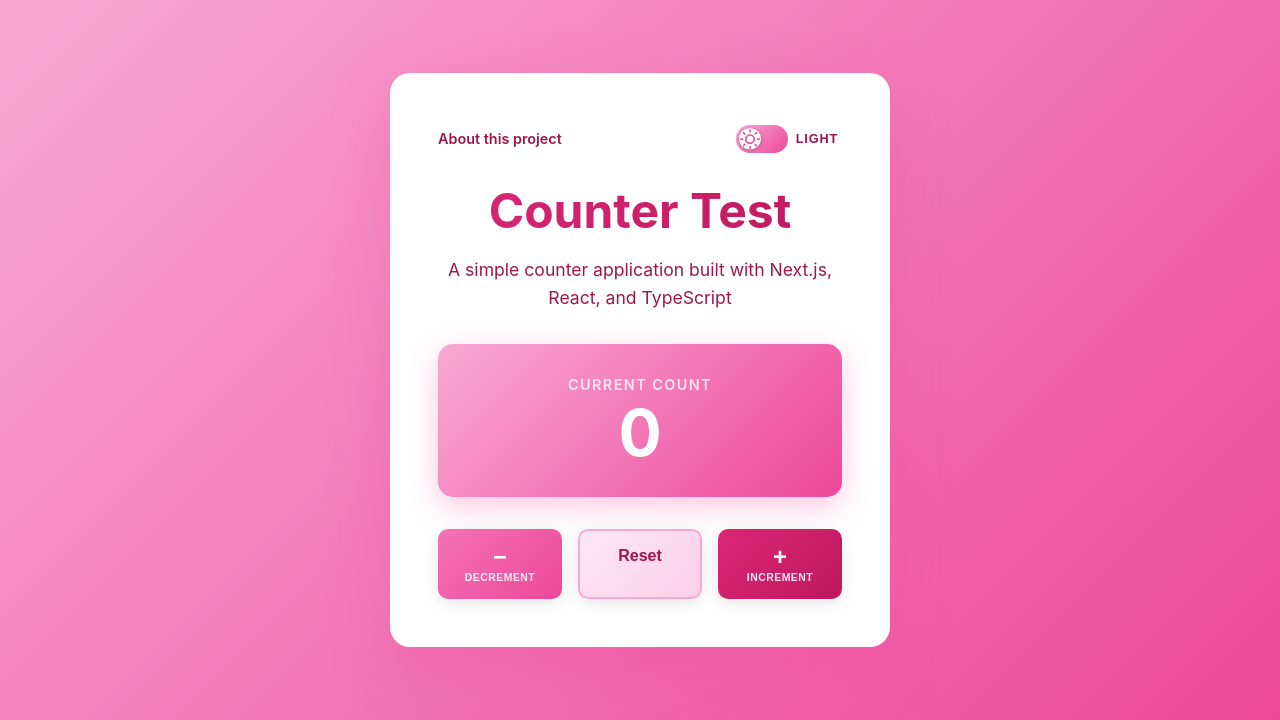
Test case: Home page counter – decrement › decrements from 0 to -1 on the first click
The image size is (1280, 720).
Click the button with aria-label "decrement counter": (500, 564) [438,529,562,599]
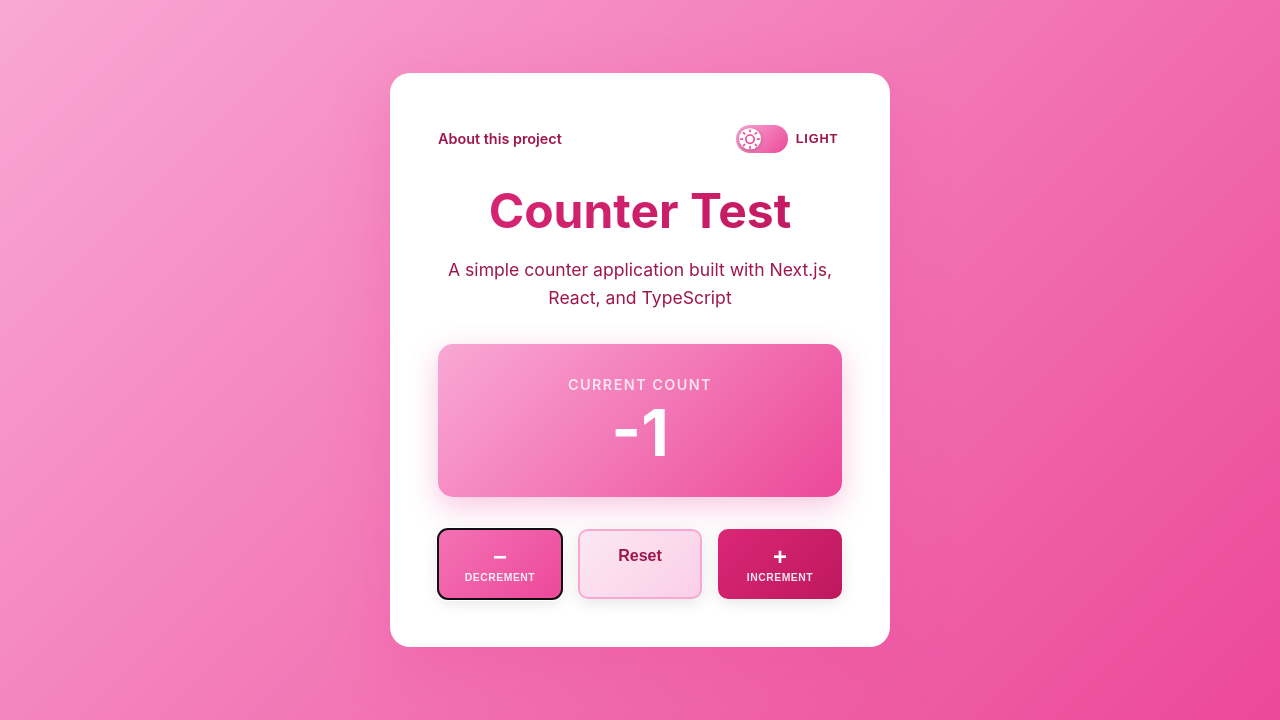
Expected: the text "-1" is shown, [611,401,669,465]
